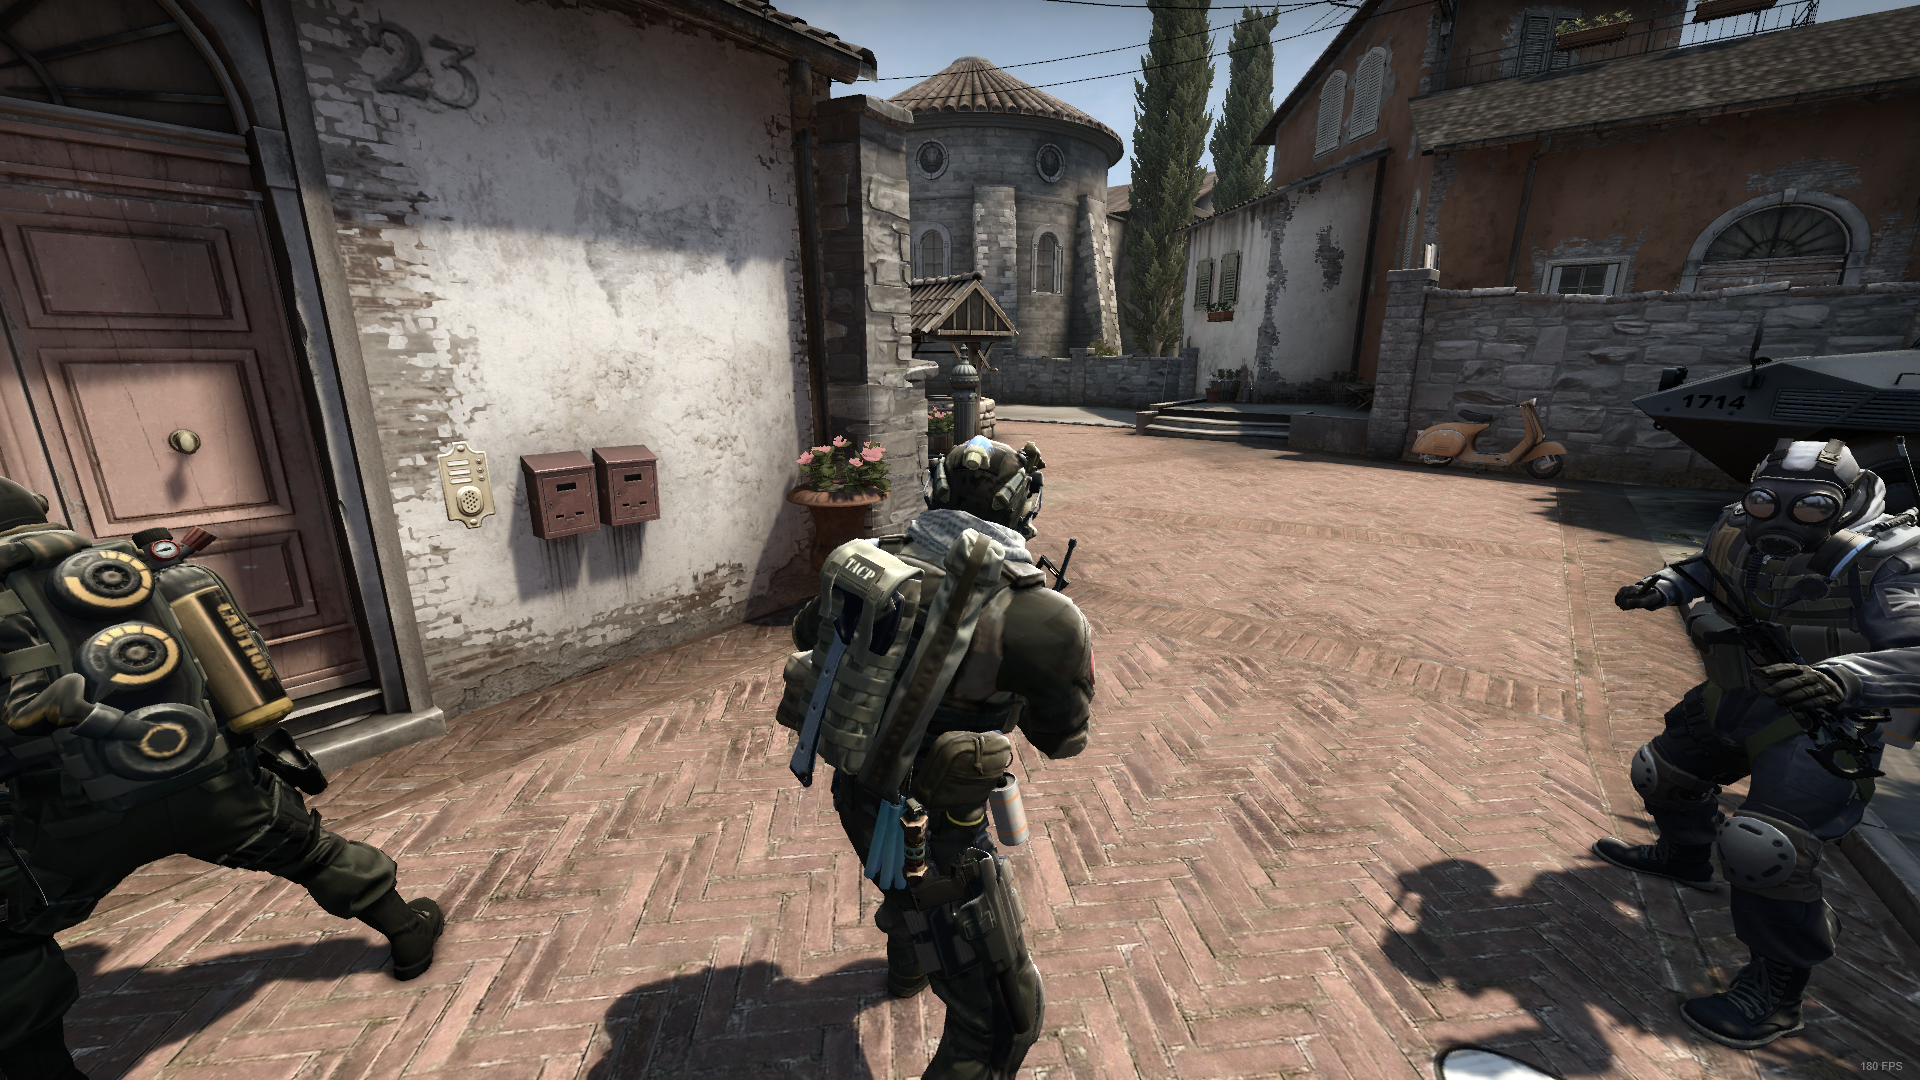ct: (1600, 435, 1920, 1044)
